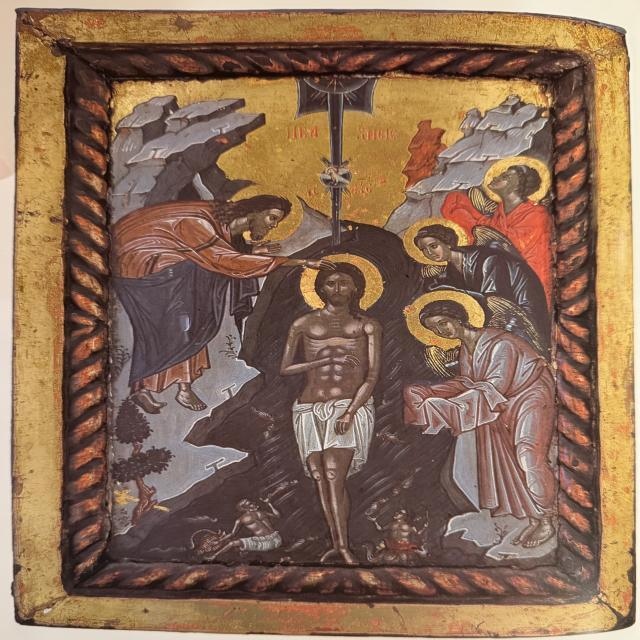angel: (403, 285, 563, 549), (393, 215, 558, 331)
aura: (301, 251, 387, 317), (406, 291, 490, 352), (229, 185, 310, 247), (404, 218, 473, 268), (483, 158, 554, 206)
christ: (264, 251, 397, 563)
saint: (113, 180, 309, 412)
wing: (484, 295, 552, 351), (470, 225, 536, 259), (422, 347, 463, 378), (461, 186, 499, 216), (418, 265, 448, 281)
